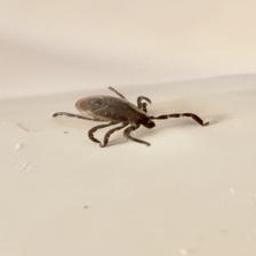Ixodes scapularis: (51, 87, 210, 148)
